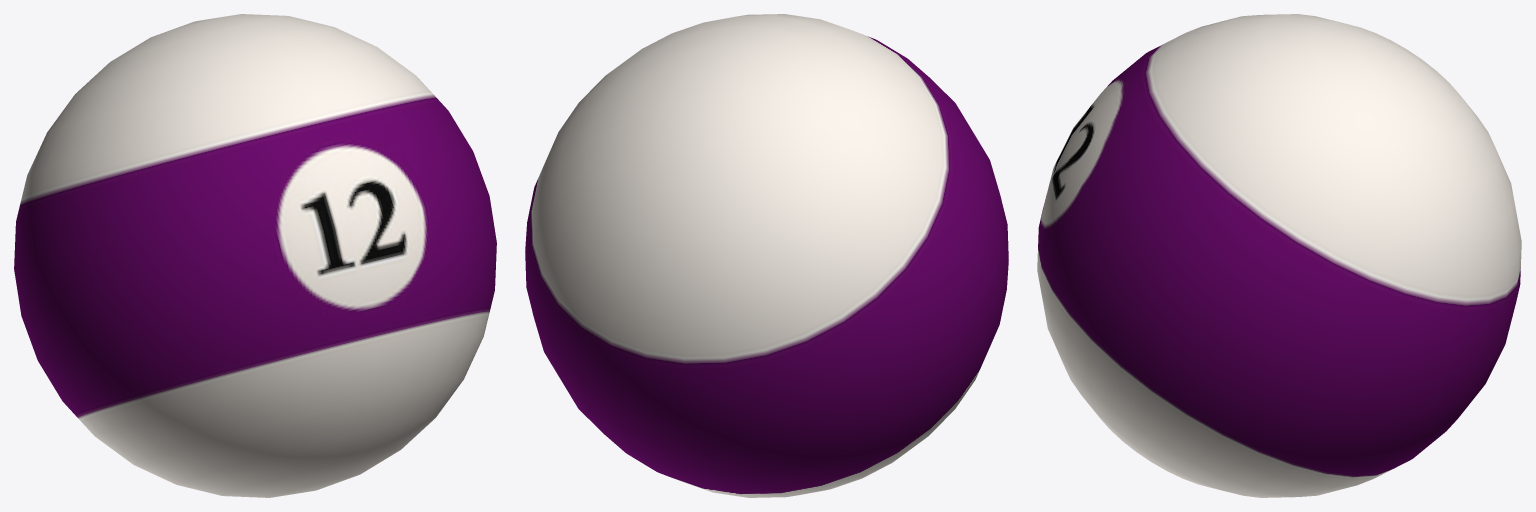
The model's file is semi_purple.glb.
The picture shows the model from 3 angles, left to right: view 1: azimuth 30°, elevation 25°; view 2: azimuth 150°, elevation 25°; view 3: azimuth 270°, elevation 25°; orthographic projection.
Parts seen in each view (by area): view 1: Ball12_21 - Default_0; view 2: Ball12_21 - Default_0; view 3: Ball12_21 - Default_0.
Part boxes in pixels (x1,y1,x2,y2): Ball12_21 - Default_0: [14, 14, 496, 497]; Ball12_21 - Default_0: [525, 14, 1008, 497]; Ball12_21 - Default_0: [1037, 14, 1521, 497].
Size of the model in its own units: 37.86 by 37.78 by 37.78.
1 material, 1 textured.
